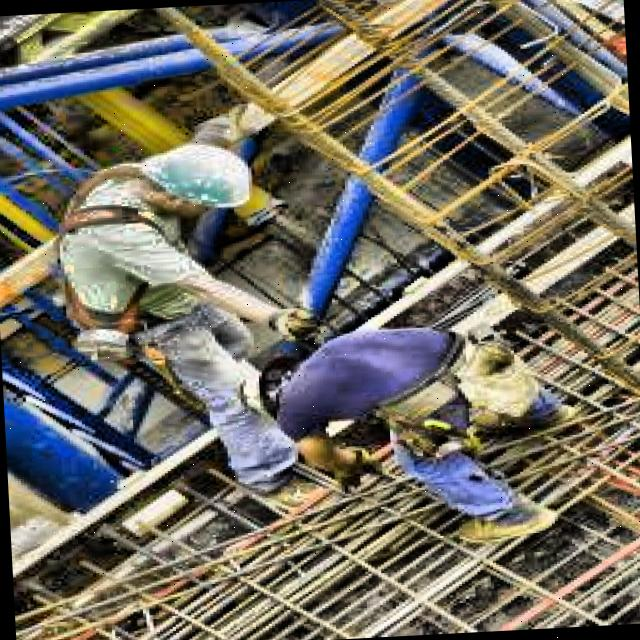helmet: (122, 136, 277, 234), (232, 348, 313, 424)
